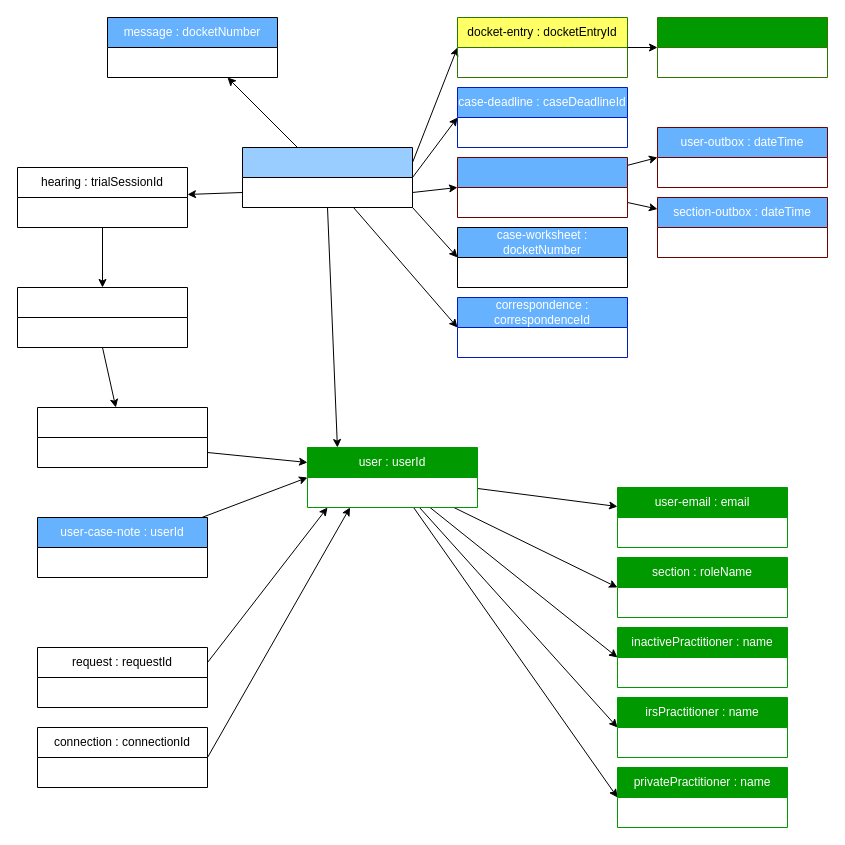
Image size: 845x845. Some labels were removed from this diagram. Here are the shapes that lost their labels. From the top down, the centre of each, then its label:
At (x=742, y=47): "docket-entry-worksheet : docketEntryId".
At (x=327, y=177): "case : docketNumber".
At (x=542, y=187): "work-item : workItemId".
At (x=102, y=317): "trial-session : trialSessionId".
At (x=122, y=437): "trial-session-working-copy : trialSessionId".
